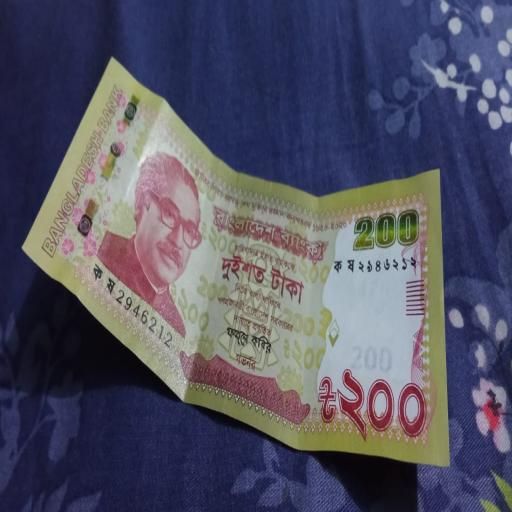200taka: (22, 58, 452, 468)
